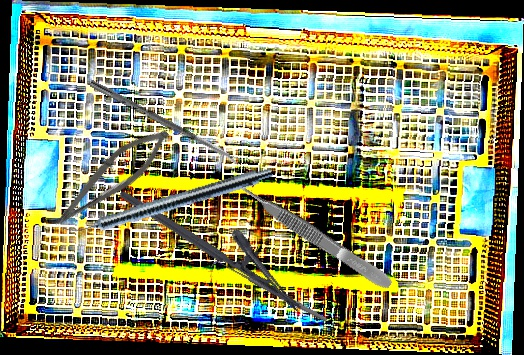Handpiece: (61, 160, 275, 244)
Hook Surgical: (209, 256, 330, 328)
Micro Scissor: (46, 116, 177, 242)
Needle Holder: (117, 164, 320, 315)
Surgical Spoon: (88, 80, 242, 166)
Tissue Forceps: (237, 178, 395, 294)
